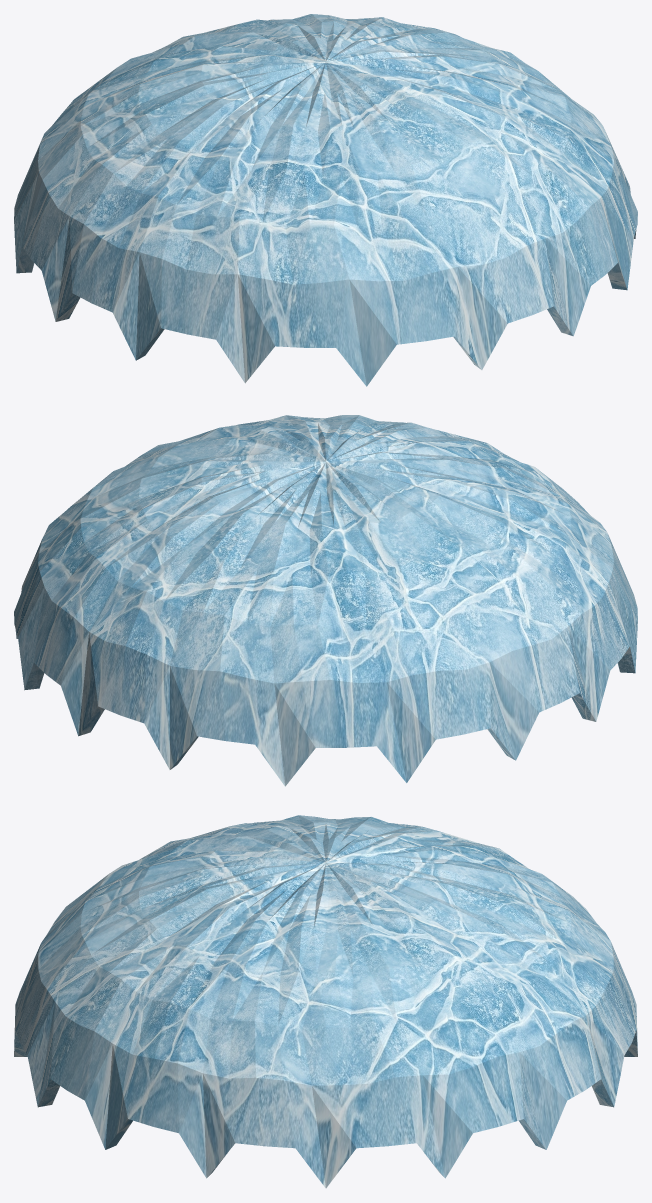
The model's file is IceJellyfishBell.obj.
3 views of the same model, one above another, from view 1: azimuth 30°, elevation 25°; view 2: azimuth 150°, elevation 25°; view 3: azimuth 270°, elevation 25° (orthographic).
Visible parts, largest first — view 1: IceJellyfishBell; view 2: IceJellyfishBell; view 3: IceJellyfishBell.
Boxes of the visible parts, box(x1,y1,x2,y2) form: IceJellyfishBell: box(14, 14, 637, 386); IceJellyfishBell: box(14, 415, 637, 786); IceJellyfishBell: box(14, 815, 637, 1188).
Bounding box in the file's own units: 44 × 15.1 × 44.
1 material, 1 textured.
